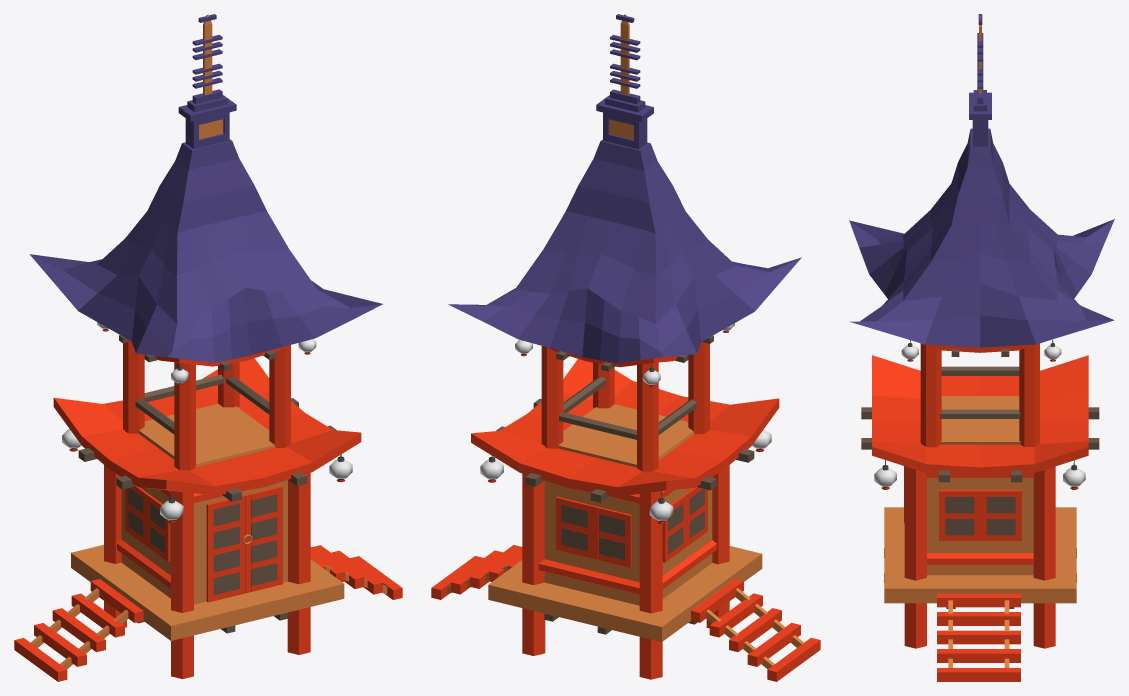
File: TowerAlly.fbx
3 renders of one model, left to right at view 1: azimuth 30°, elevation 25°; view 2: azimuth 150°, elevation 25°; view 3: azimuth 270°, elevation 25°, orthographic. The views are drawn at different scales.
Visible parts, largest first — view 1: Tower; view 2: Tower; view 3: Tower.
Boxes of the visible parts, x1,y1,x2,y2 form: Tower: (14,14,402,681); Tower: (431,14,820,681); Tower: (849,14,1114,681).
Bounding box in the file's own units: 1767 × 3059 × 1228.
